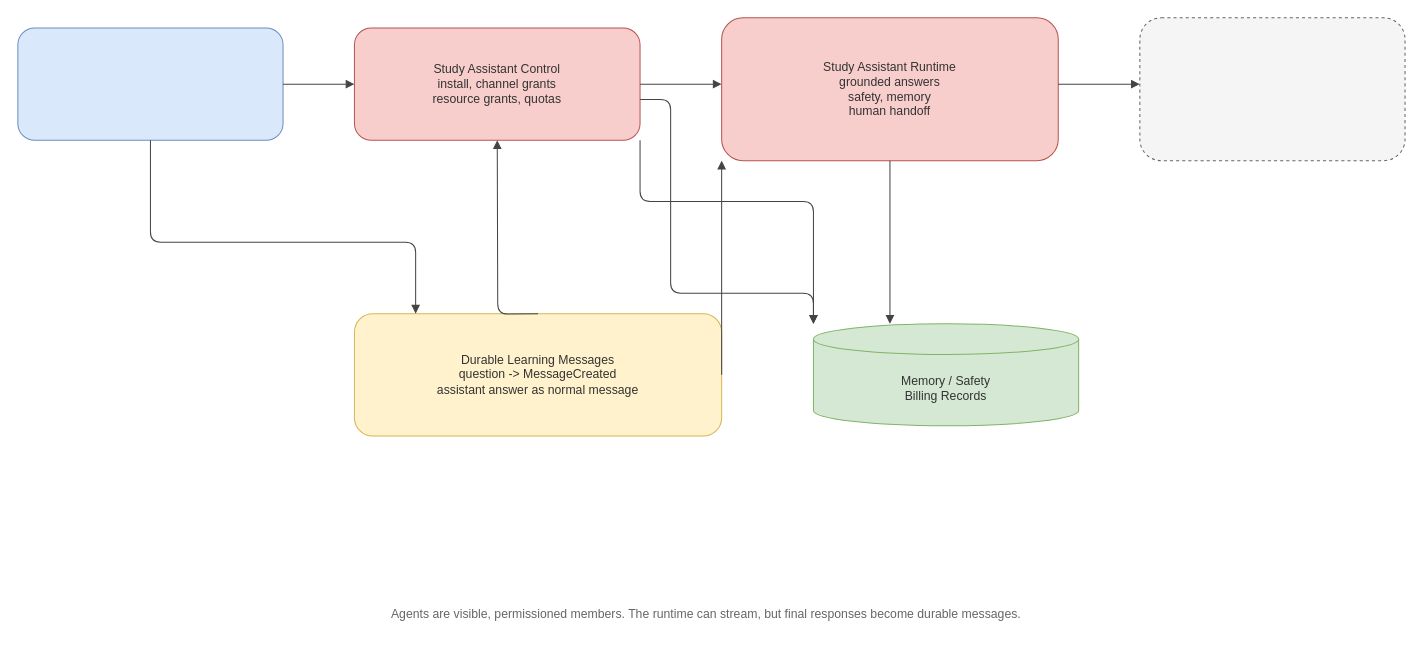
This 1423x658 diagram has some shape labels left out. The shapes that lost their labels are listed below. From the top down, each one's centre as x and y in pixels, then its label:
the point at 150,83: Study Server Surface course channel, resources Gateway, Realtime
the point at 1272,89: Providers And Stores LLMs, STT/TTS vector store audit + usage records
